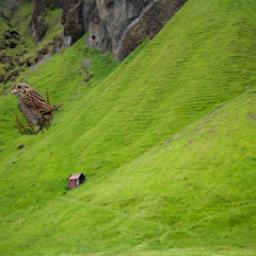Sparrow: (9, 80, 65, 135)
